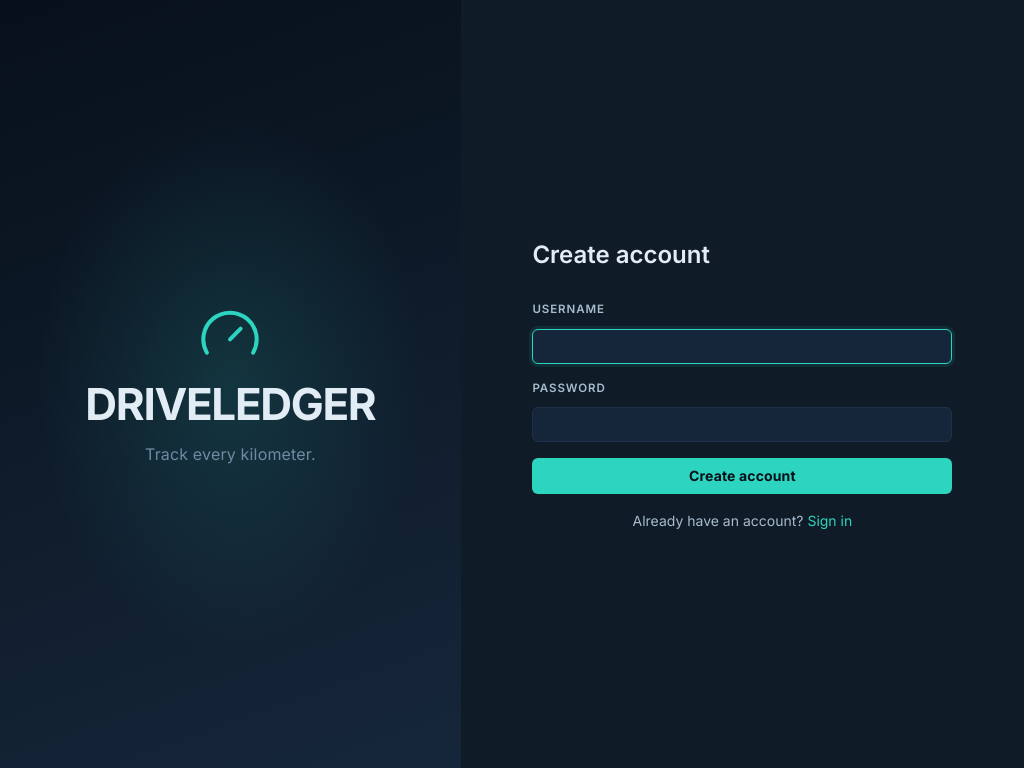
RegisterPage › should display error message when registration fails
This screenshot has width=1024, height=768.
Type "existinguser" into the field named "username" at coordinates (742, 346), box [532, 329, 952, 364]
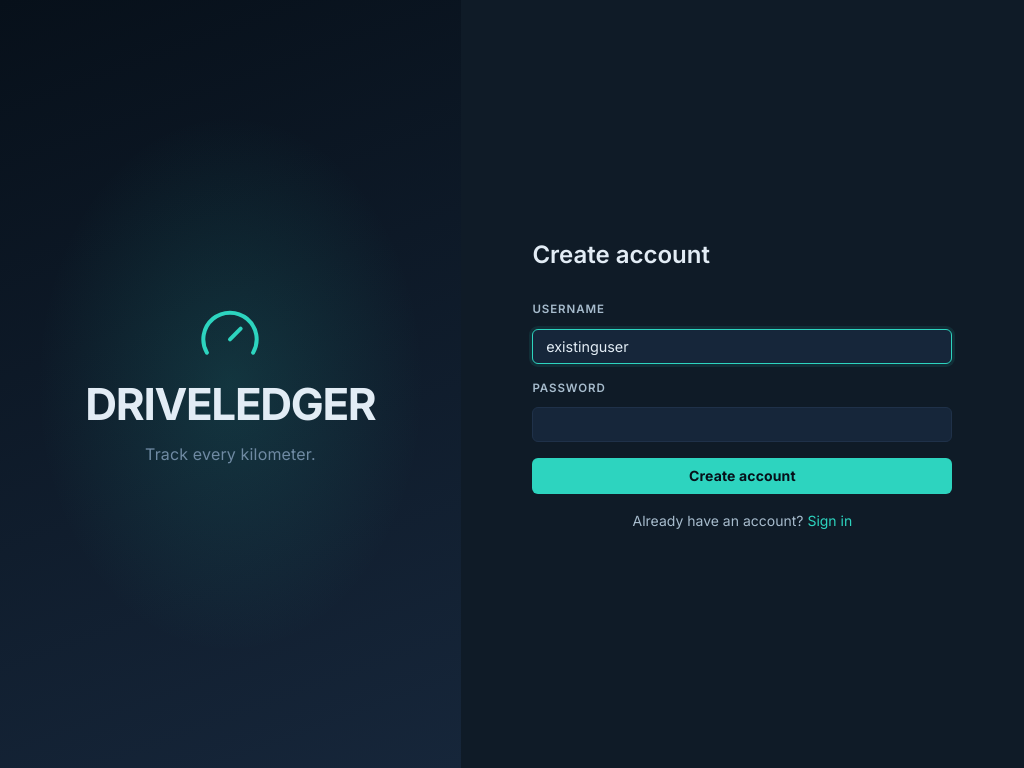
Type "password123" into the password field named "password" at coordinates (742, 425), box [532, 407, 952, 442]
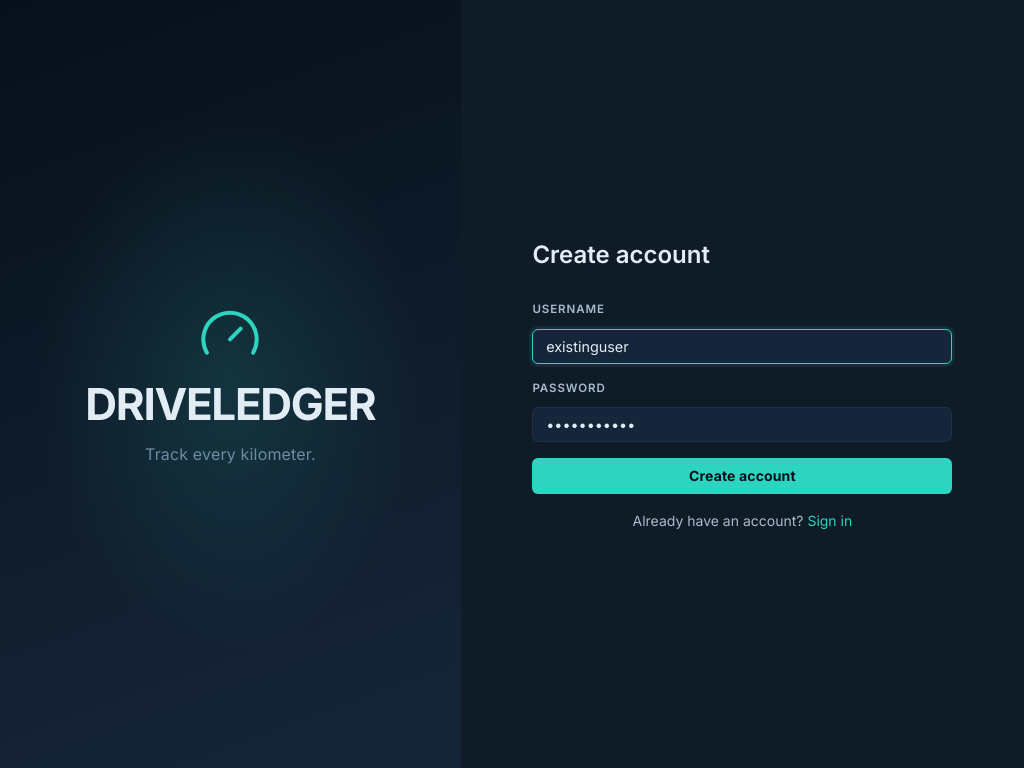
Submit the form, box [532, 301, 952, 494]
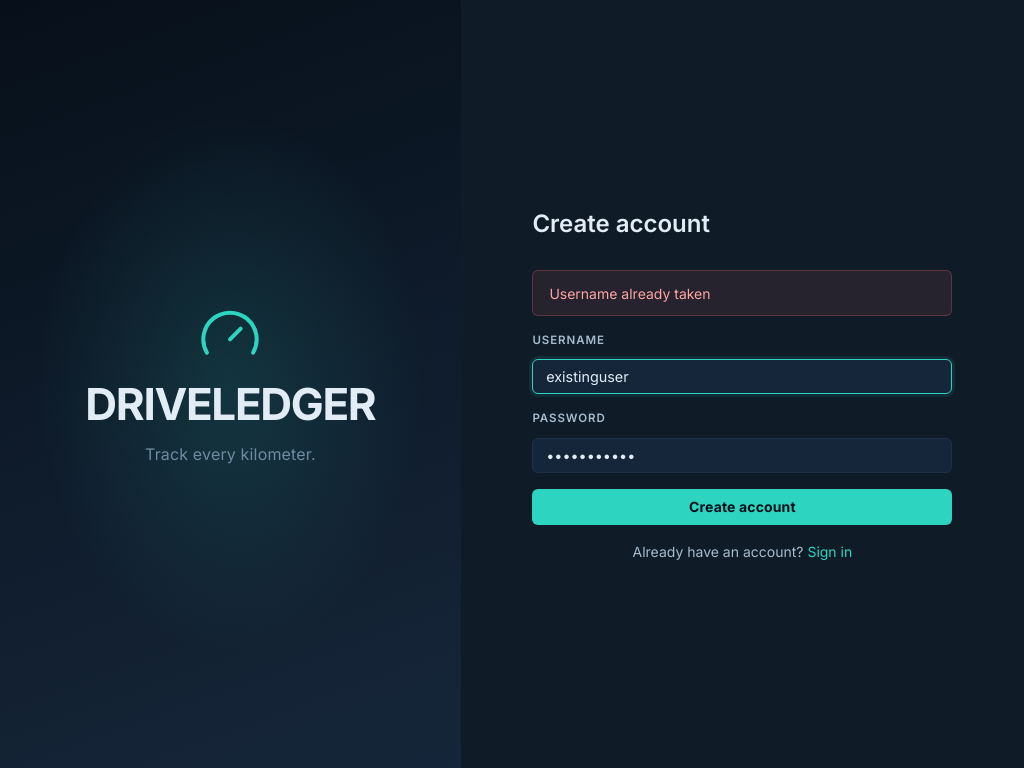
Expected: the text "Username already taken" is shown, [532, 270, 952, 316]
